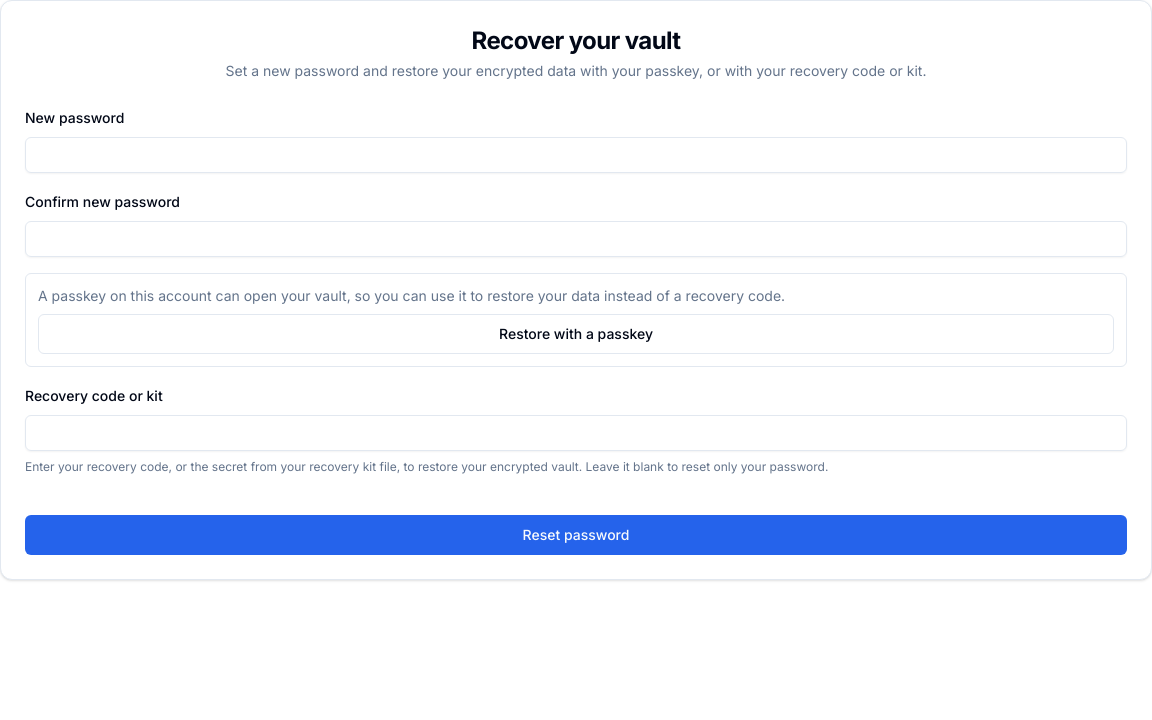
Test: the reset page with a passkey that opens the vault › asks before resetting without restoring, then stops the passkeys opening the vault
Expected: the button "Restore with a passkey" is shown, 38,314 -> 1114,354
Type "NewPassword789!" into the password field labelled "New password".
click(576, 155); type("NewPassword789!")  # box 25,137 -> 1127,173
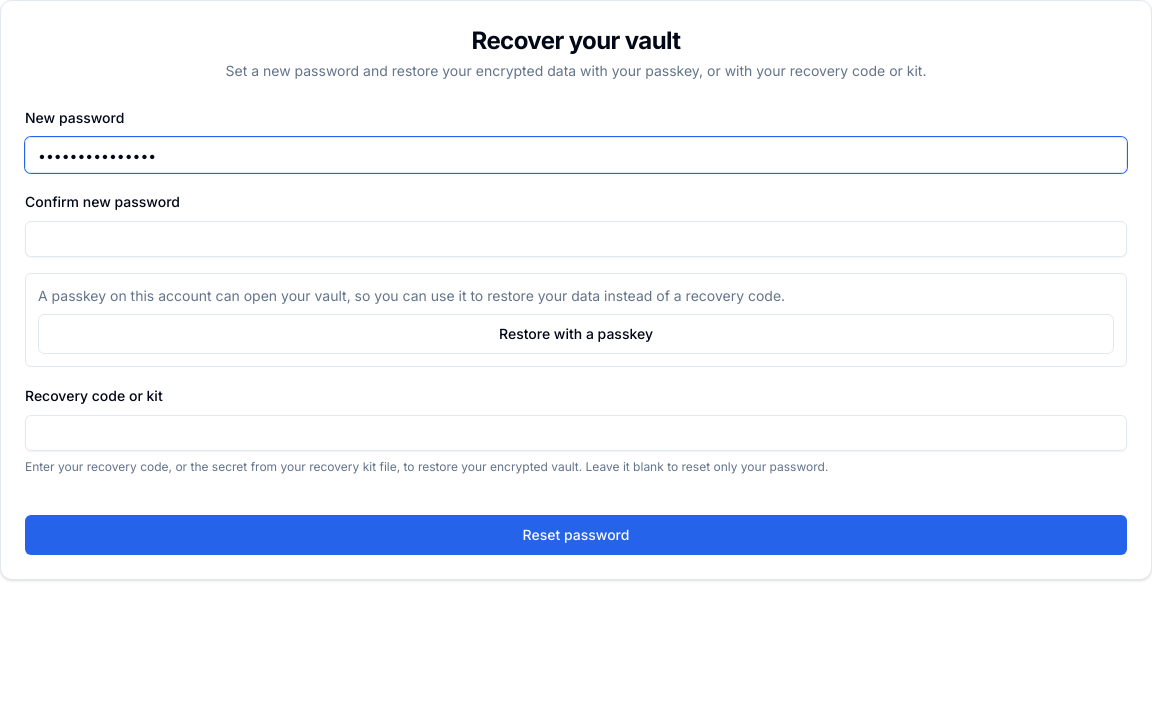
Type "NewPassword789!" into the password field labelled "Confirm new password".
click(576, 239); type("NewPassword789!")  # box 25,221 -> 1127,257
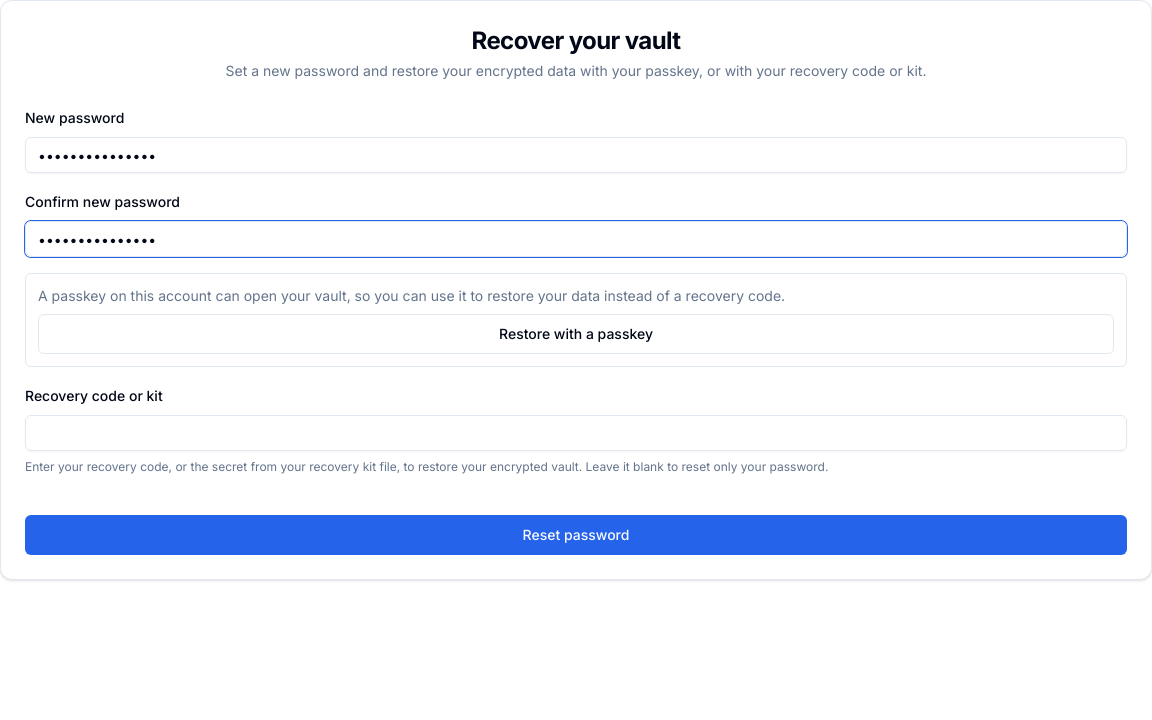
Click the button "Reset password".
click(576, 535)  # box 25,515 -> 1127,555
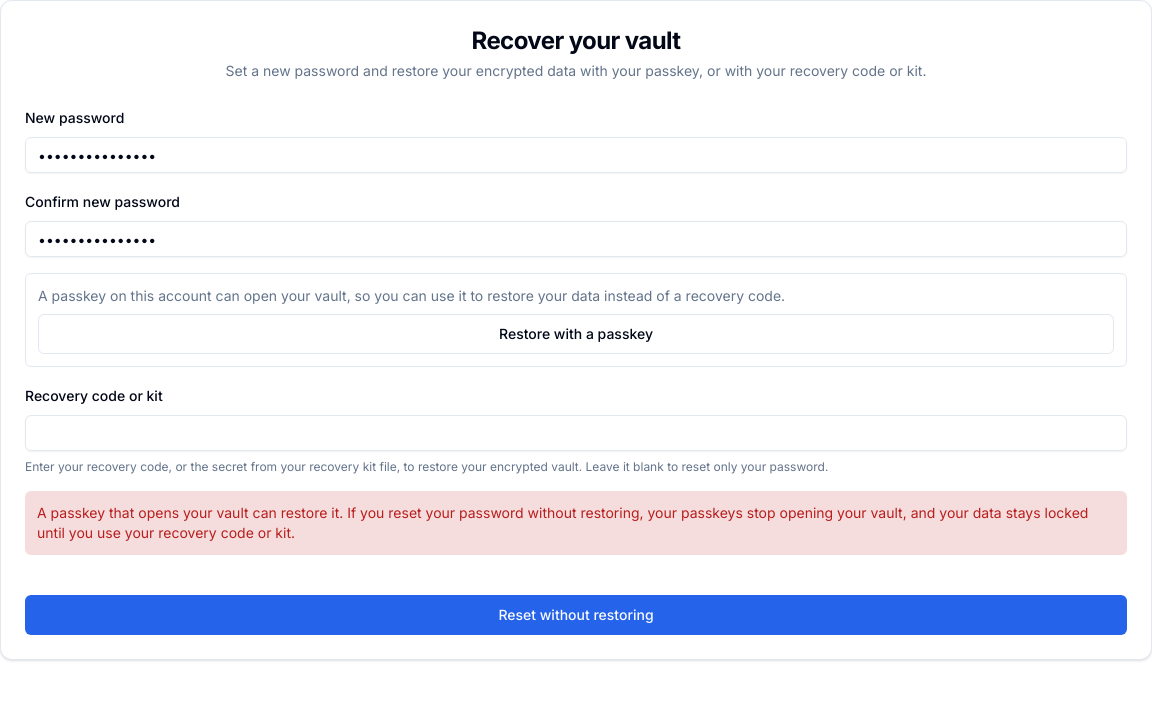
Now the message shows "your passkeys stop opening your vault", box 37,504 -> 1088,541
Now the message shows "until you use your recovery code or kit", box 37,504 -> 1088,541
Click the button "Reset without restoring".
click(576, 615)  # box 25,595 -> 1127,635
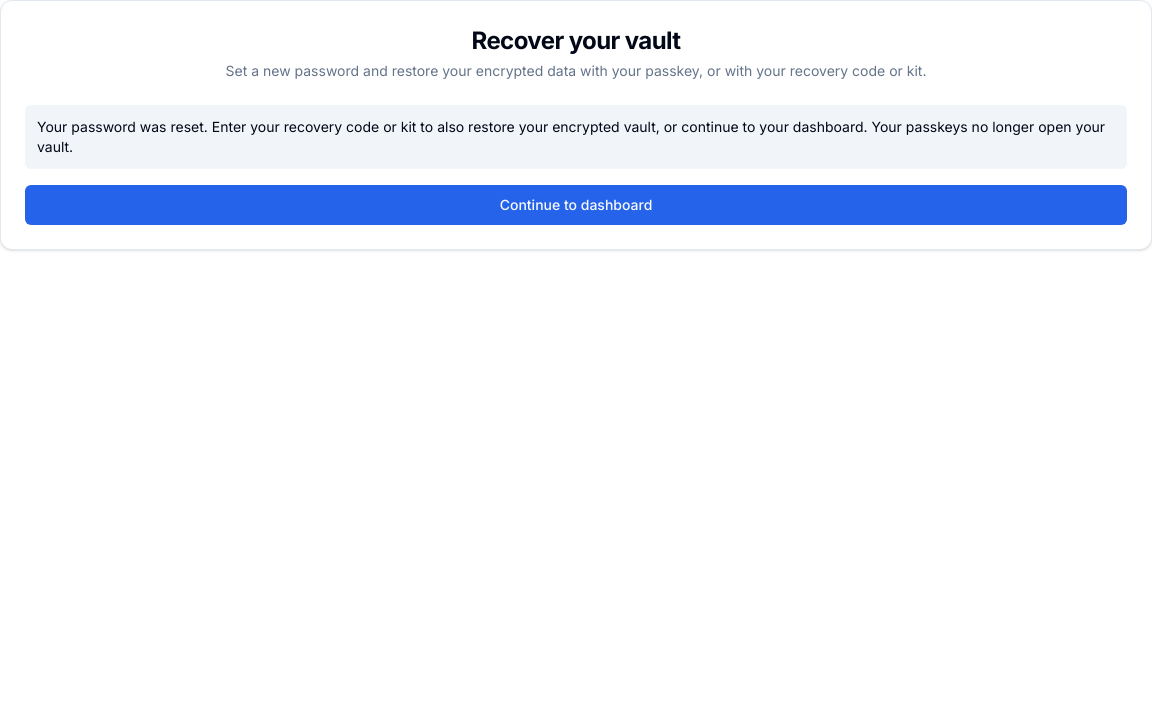
Now the text "Your passkeys no longer open your vault." is shown, box 37,118 -> 1105,155
